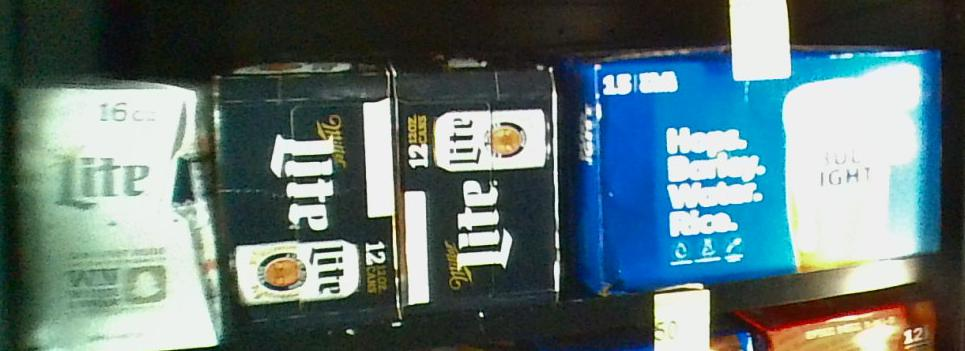bottle: (587, 63, 960, 292), (8, 73, 225, 347), (215, 68, 399, 328), (393, 64, 559, 314)
